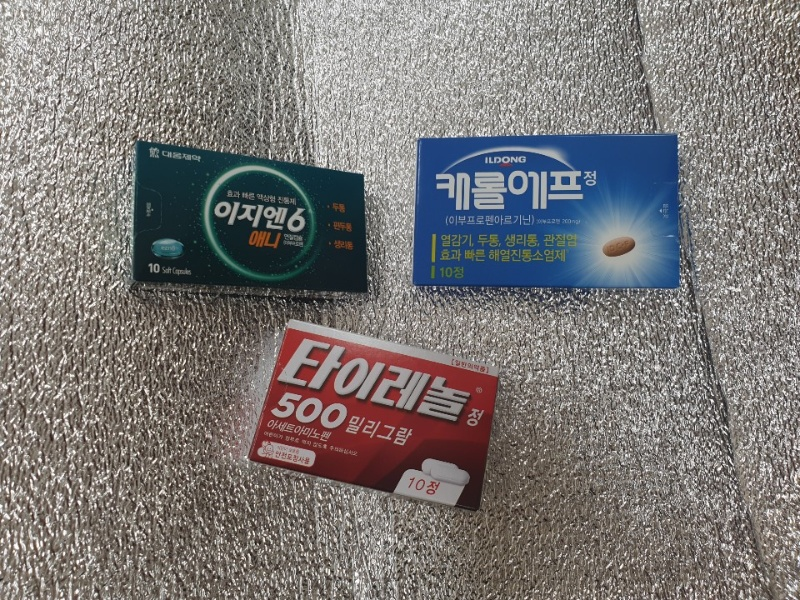carolF: (414, 136, 683, 288)
ezn: (133, 140, 369, 293)
tylenol: (248, 319, 499, 514)
